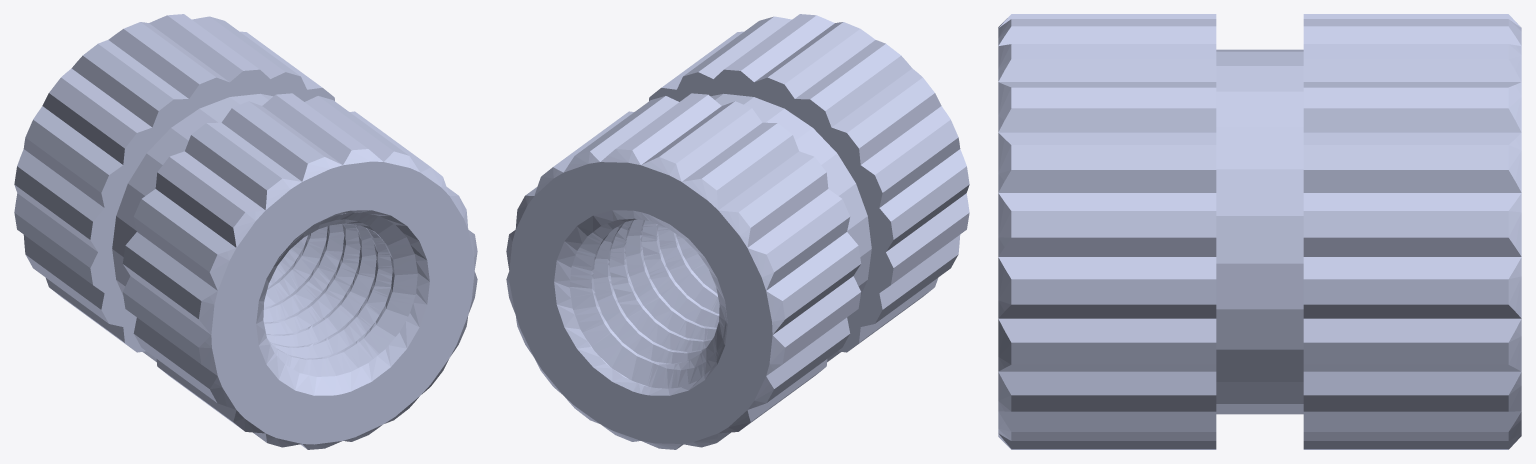
File: T200_01_T200STEP_T200STEPSTEP_T200_CORE_T200_CORE_STDSTEPSTEP_T200_ASM_STATOR_BASE_ORING_Pubilc_STEPSTEP_T200STEP1_02_T200STEP1.obj
The picture shows the model from 3 angles, left to right: view 1: azimuth 30°, elevation 25°; view 2: azimuth 150°, elevation 25°; view 3: azimuth 270°, elevation 25°; orthographic projection. The views are drawn at different scales.
Bounding box in the file's own units: 0.00498 × 0.00498 × 0.006.
